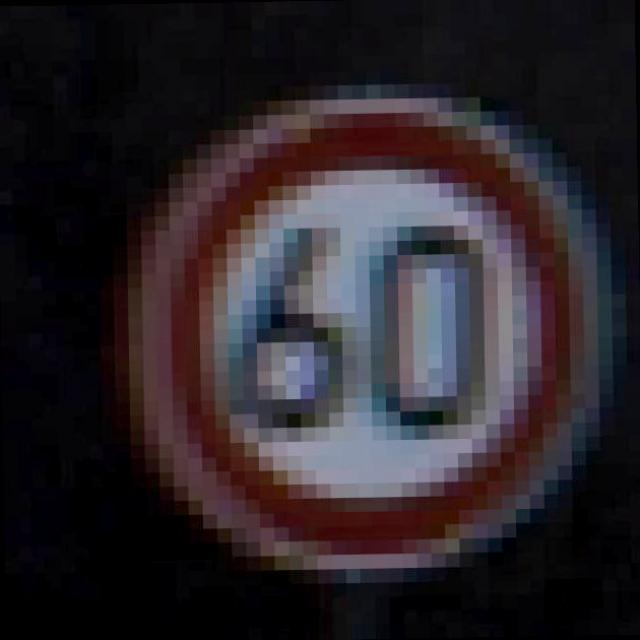Ograniczenie predkosci do 60: (149, 102, 594, 572)
